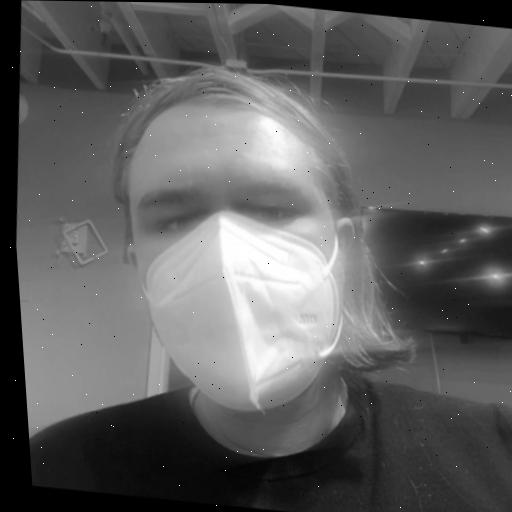mask: (69, 40, 437, 480)
